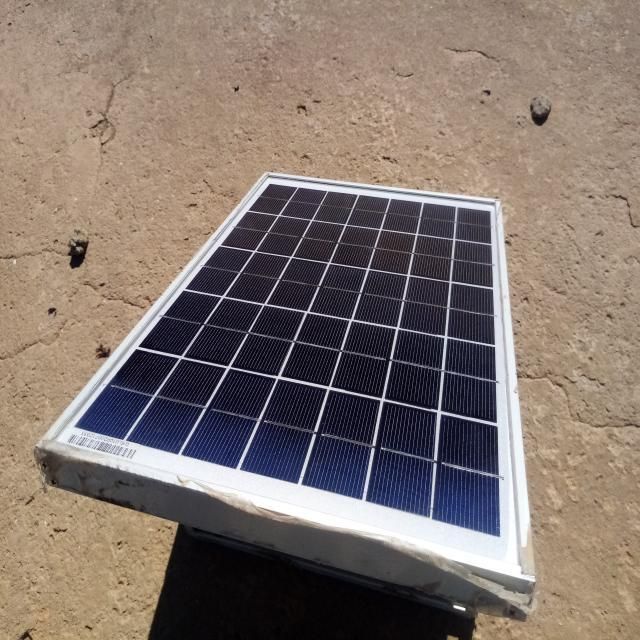no faulty: (42, 170, 532, 583)
